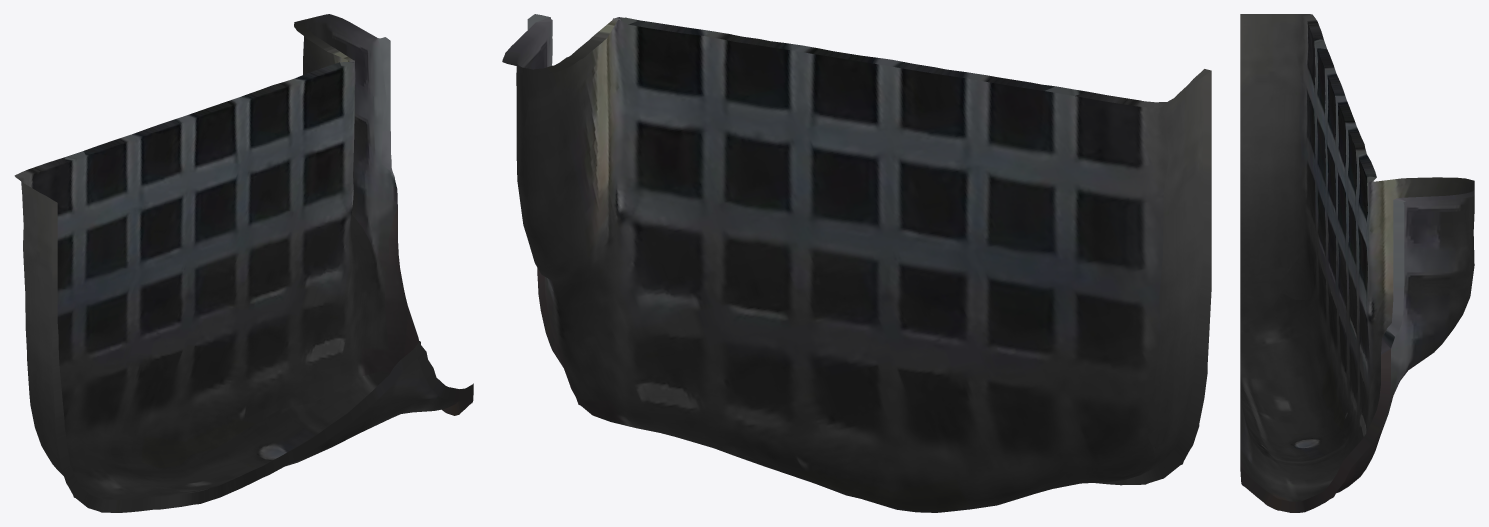
File: z20-167749-405245-h0-yup-uvflip-v3-world.glb
3 renders of one model, left to right at view 1: azimuth 30°, elevation 25°; view 2: azimuth 150°, elevation 25°; view 3: azimuth 270°, elevation 25°, orthographic. The views are drawn at different scales.
Size of the model in its own units: 21.84 by 16.96 by 11.32.
Materials: 1 (1 with a texture image).
